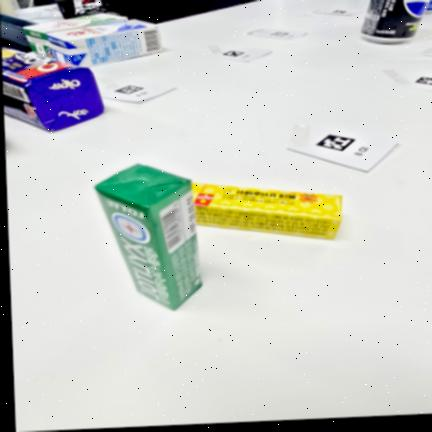gum_green: (95, 164, 201, 310)
gum_yellow: (192, 183, 342, 239)
